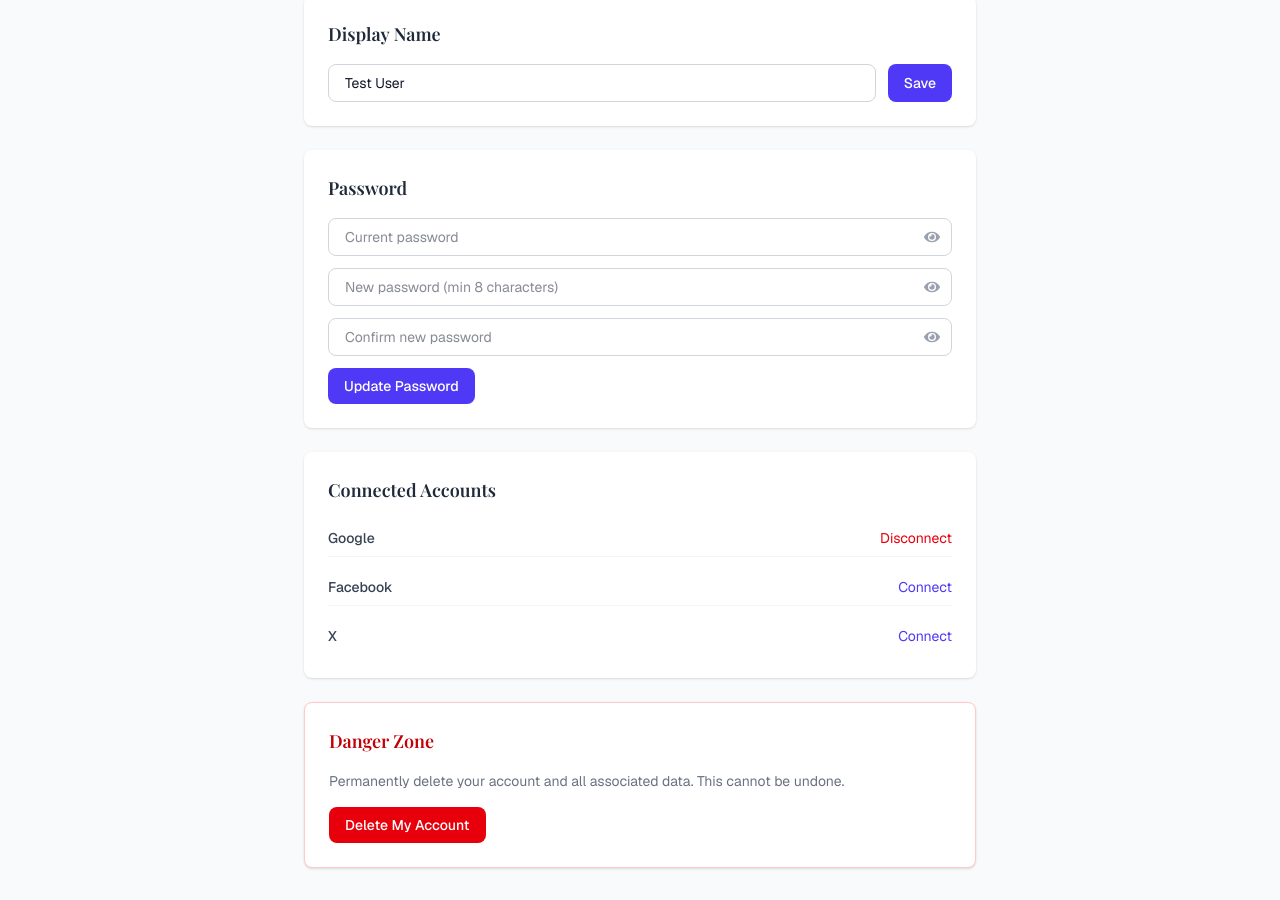
Scenario: ProfilePage › opens delete modal and keeps confirm button disabled until email matches
(page scrolled)
Click the button "Delete My Account". click: (407, 825)
box: top-left (329, 807), bottom-right (486, 843)
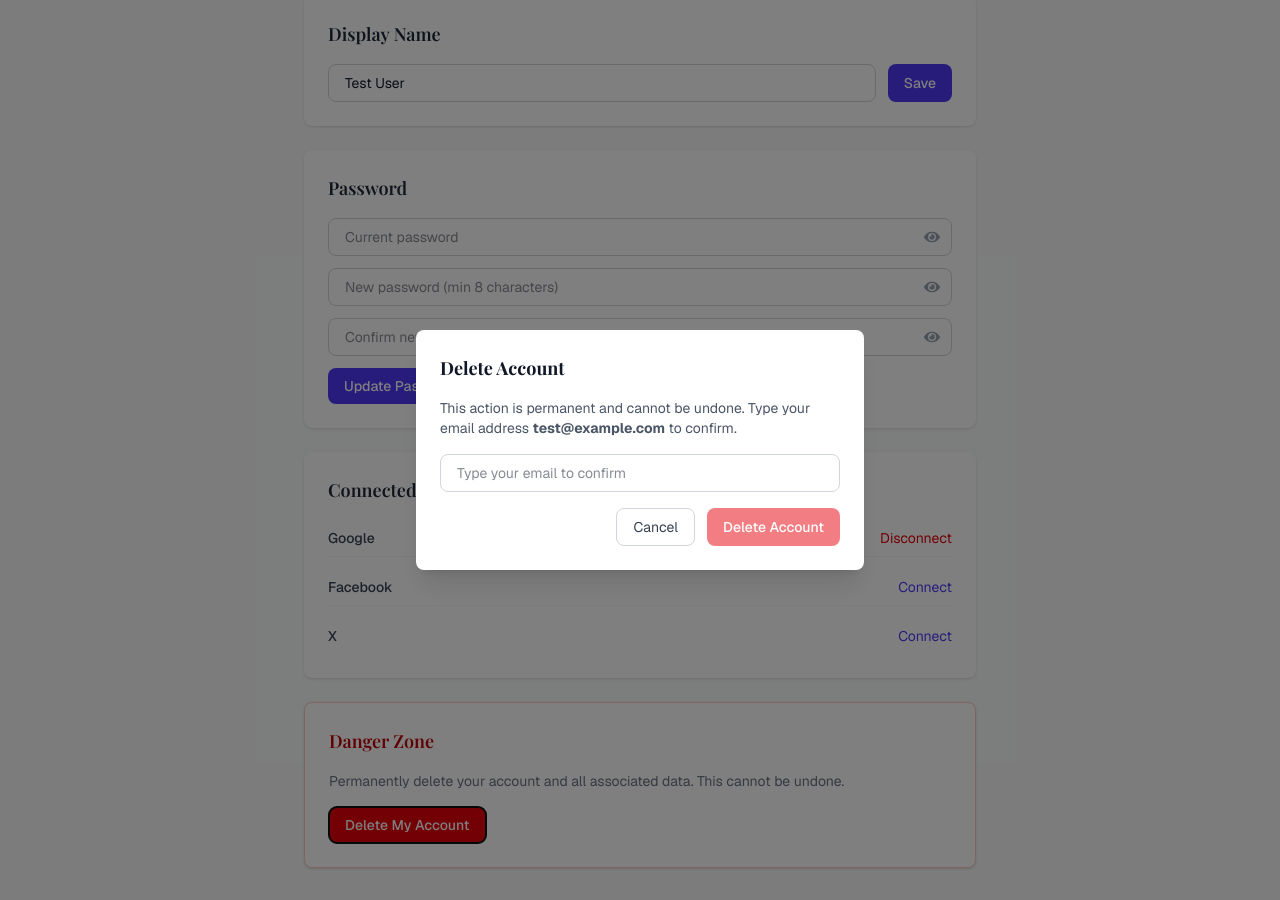
Expected: the button "Delete Account" is disabled, top-left (707, 508), bottom-right (840, 546)
Type "test@example.com" into the field with placeholder "Type your email to confirm". click: (640, 473)
box: top-left (440, 454), bottom-right (840, 492)
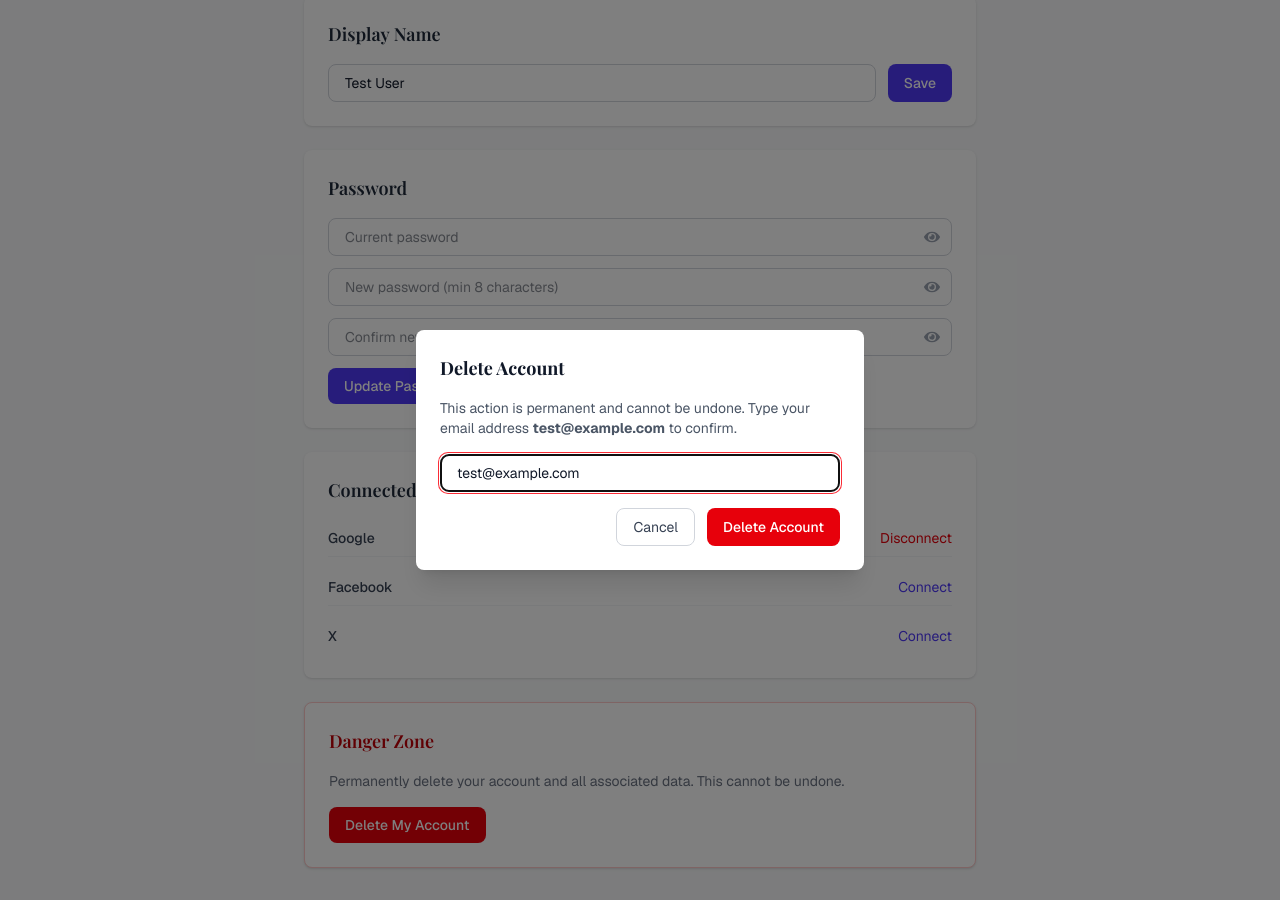
Expected: the button "Delete Account" is enabled, top-left (707, 508), bottom-right (840, 546)
